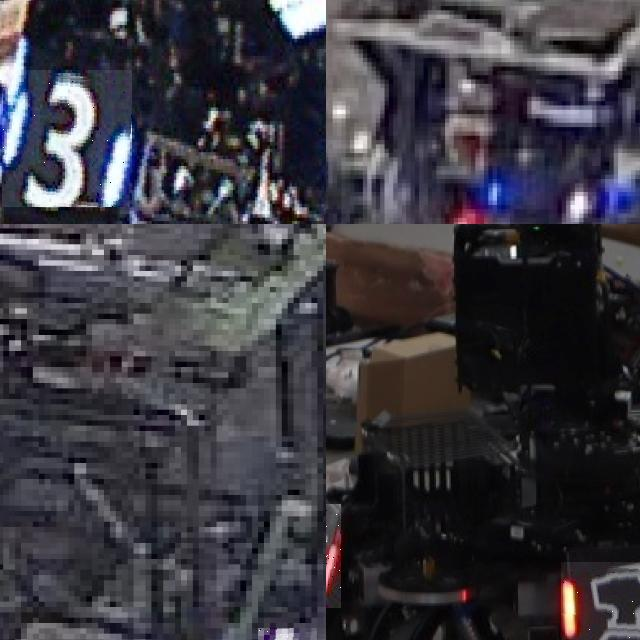B3: (2, 70, 132, 207)
Rs: (560, 561, 640, 640), (326, 504, 341, 607)
